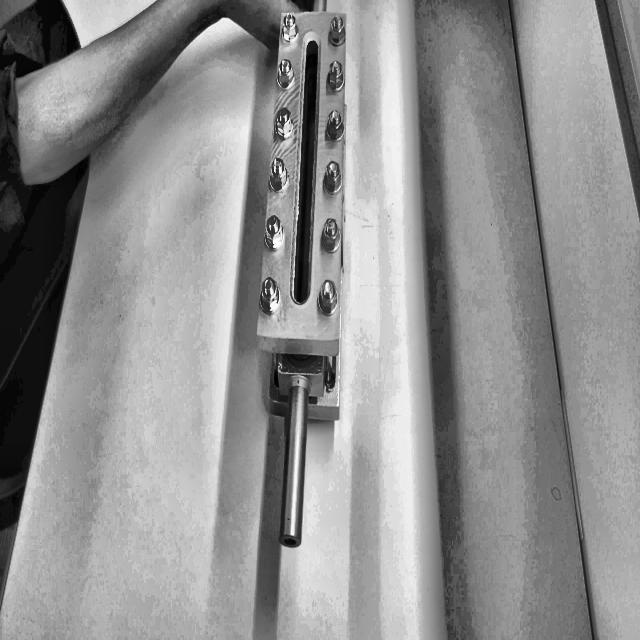ShuiWeiQi_12: (259, 11, 359, 555)
